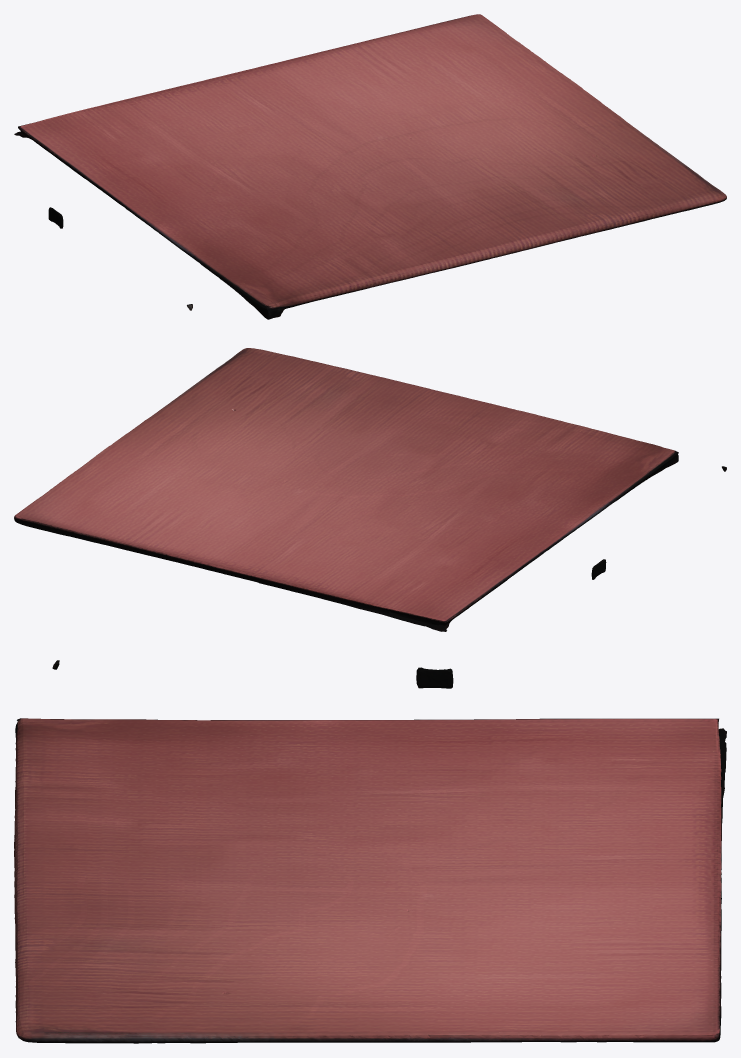
3 views of the same model, one above another, from view 1: azimuth 30°, elevation 25°; view 2: azimuth 150°, elevation 25°; view 3: azimuth 270°, elevation 25° (orthographic). The views are drawn at different scales.
Parts seen in each view (by area): view 1: world; view 2: world; view 3: world.
Boxes of the visible parts, left/top/right/bottom form: world: left=14, top=14, right=726, bottom=319; world: left=14, top=348, right=726, bottom=631; world: left=14, top=660, right=726, bottom=1043.
Size of the model in its own units: 1 by 0.0366 by 0.8303.
1 material, 1 textured.
